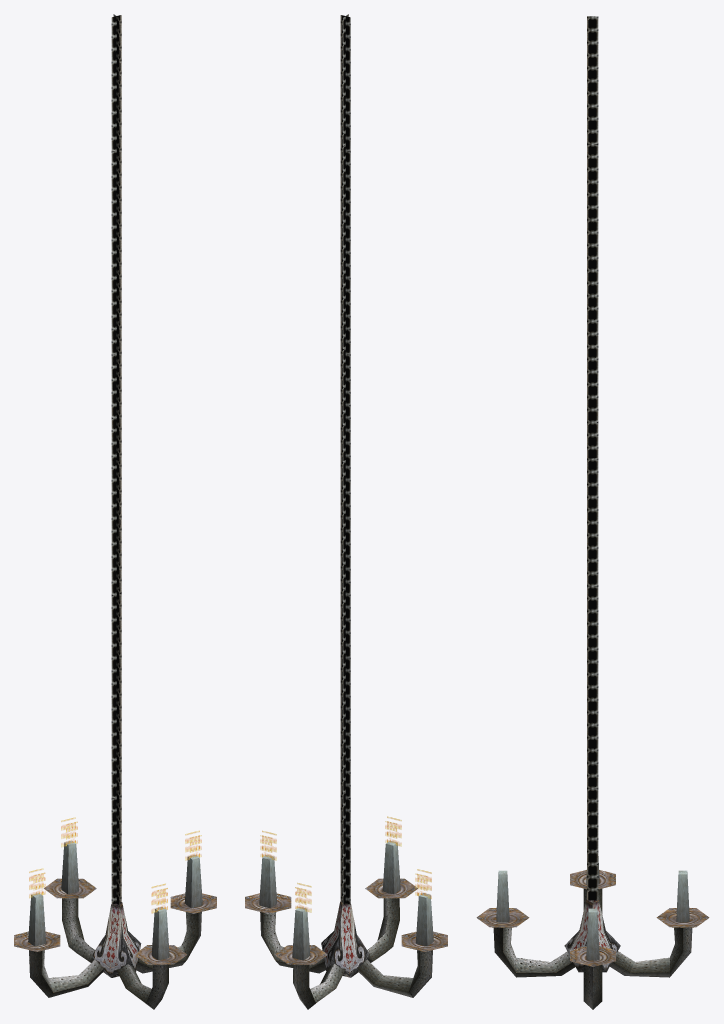
File: mm9_deco_chandelier.glb
3 renders of one model, left to right at view 1: azimuth 30°, elevation 25°; view 2: azimuth 150°, elevation 25°; view 3: azimuth 270°, elevation 25°, orthographic.
Visible parts, largest first — view 1: Chandelier; view 2: Chandelier; view 3: Chandelier.
Part boxes in pixels (x1=…): Chandelier: x1=14, y1=14, x2=216, y2=1009; Chandelier: x1=245, y1=14, x2=447, y2=1009; Chandelier: x1=476, y1=16, x2=709, y2=1009.
Bounding box in the file's own units: 2.2 × 9.99 × 2.2.
2 materials, 2 textured.
